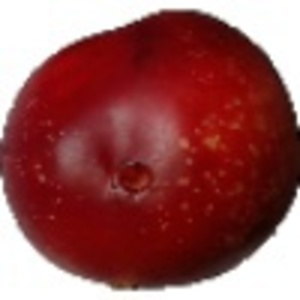nectarina: (1, 8, 300, 300)
